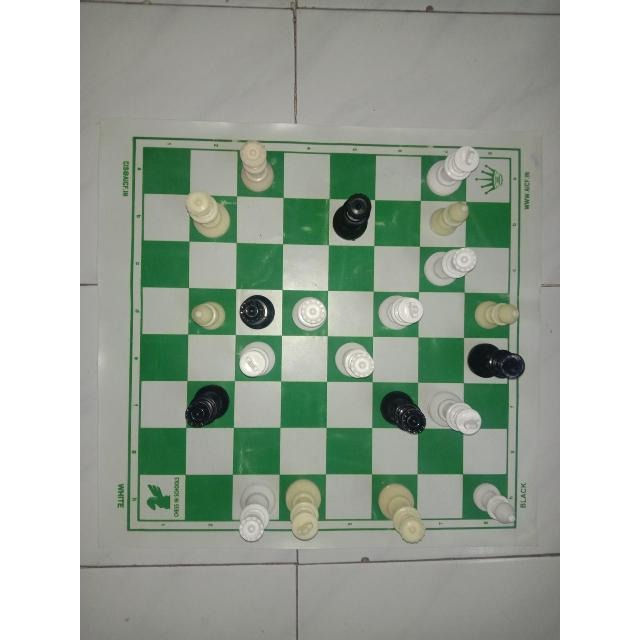black-king: (465, 337, 527, 384)
black-queen: (376, 385, 428, 439), (329, 186, 375, 244), (180, 381, 230, 428), (234, 287, 278, 333)
white-bishop: (467, 481, 521, 531), (469, 295, 523, 333), (428, 198, 471, 238), (189, 296, 229, 332)
white-king: (425, 142, 483, 200), (427, 390, 485, 440), (283, 475, 324, 543), (374, 291, 424, 334), (233, 339, 278, 379)
white-queen: (372, 475, 426, 546), (236, 480, 278, 546), (421, 245, 481, 287), (185, 189, 232, 238), (239, 137, 280, 193), (330, 340, 375, 382), (284, 291, 327, 333)
